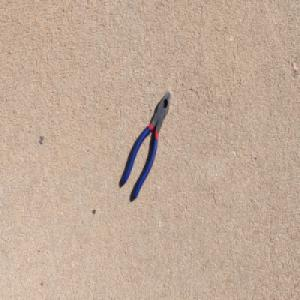Pliers: (121, 89, 171, 200)
